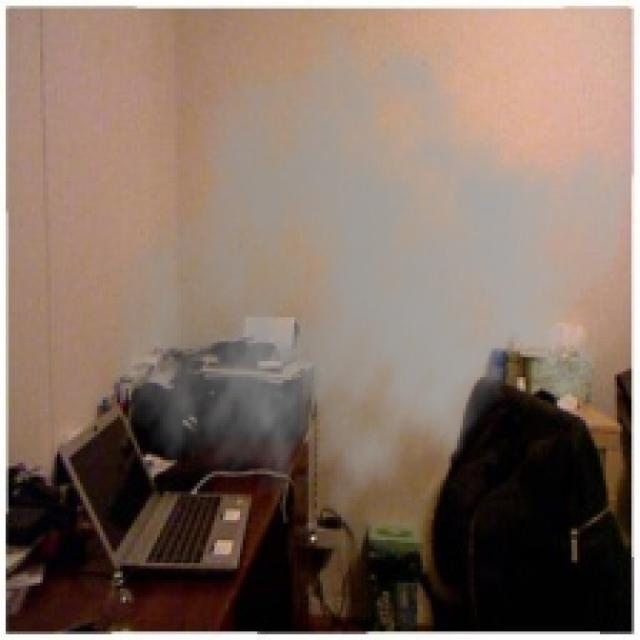smoke: (106, 14, 637, 546)
